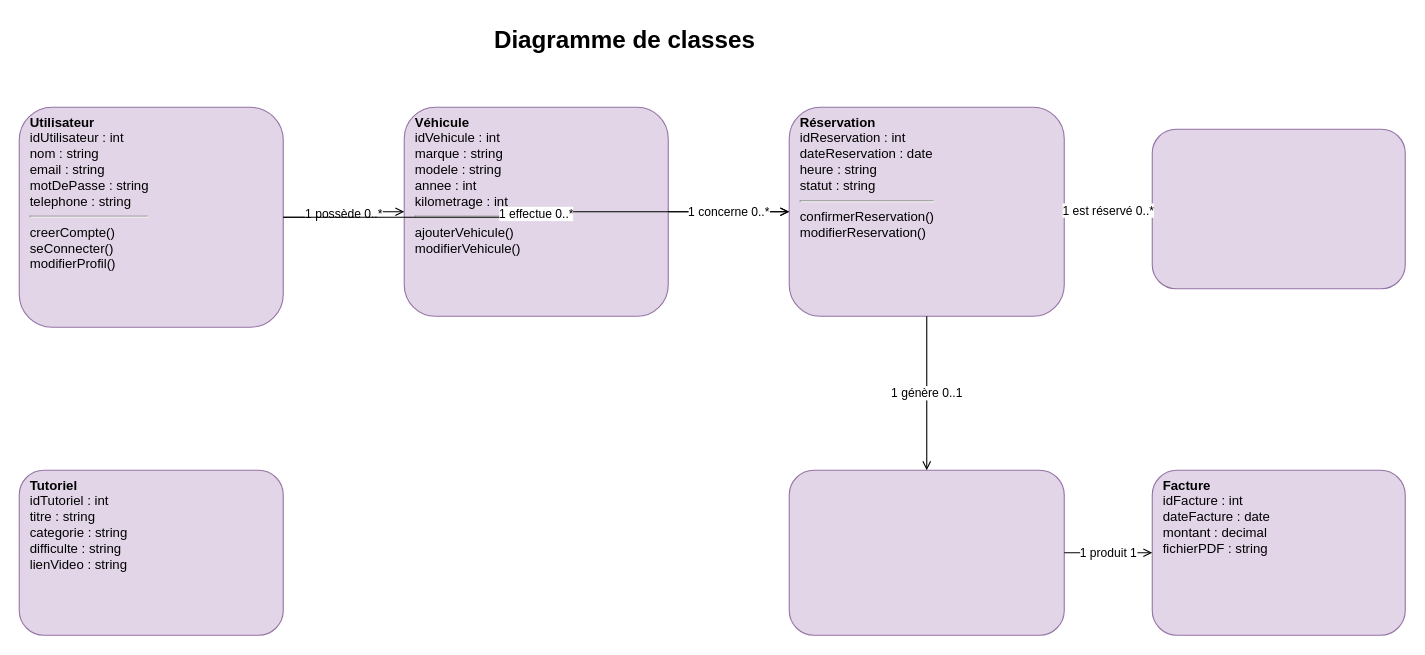
This 1425x655 diagram has some shape labels left out. Each missing label, with the centre of its shape:
Paiement idPaiement : int montant : decimal statut : string datePaiement : date: point (926, 552)
Service idService : int nomService : string description : string prix : decimal: point (1278, 208)
